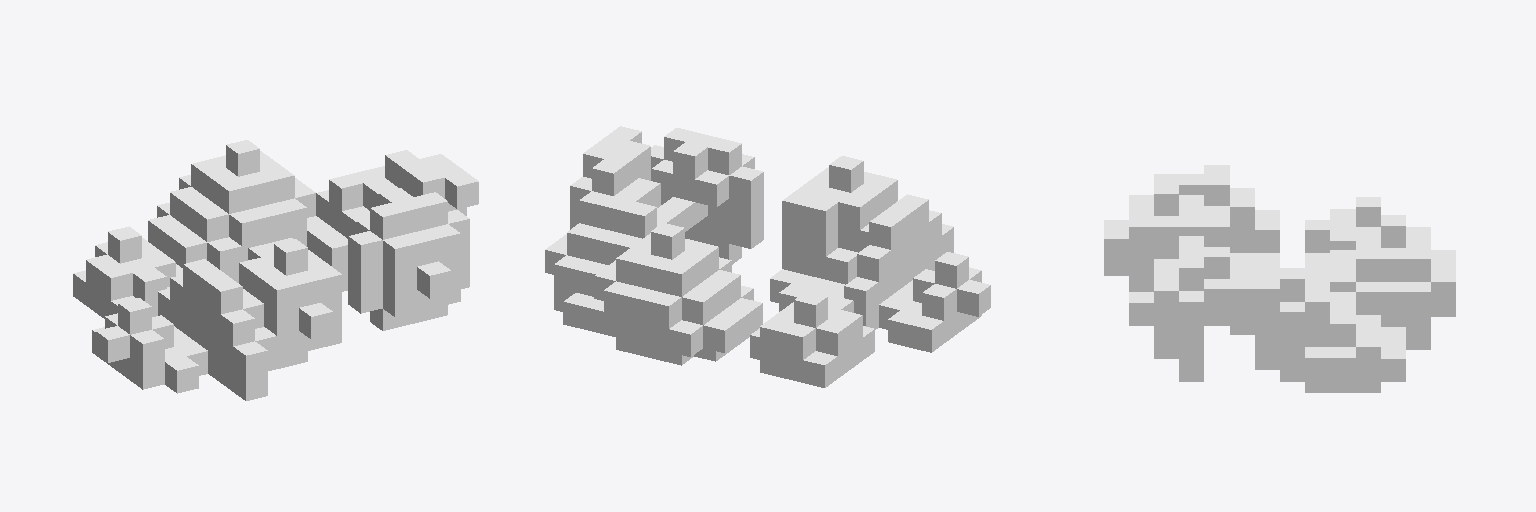
Rendered from food01.obj.
3 views of the same model, side by side, from view 1: azimuth 30°, elevation 25°; view 2: azimuth 150°, elevation 25°; view 3: azimuth 270°, elevation 25° (orthographic).
Parts seen in each view (by area): view 1: food01; view 2: food01; view 3: food01.
Boxes of the visible parts, box(x1,y1,x2,y2) form: food01: box(73, 140, 478, 400); food01: box(545, 126, 990, 387); food01: box(1104, 165, 1455, 392).
Size of the model in its own units: 17 by 5 by 14.